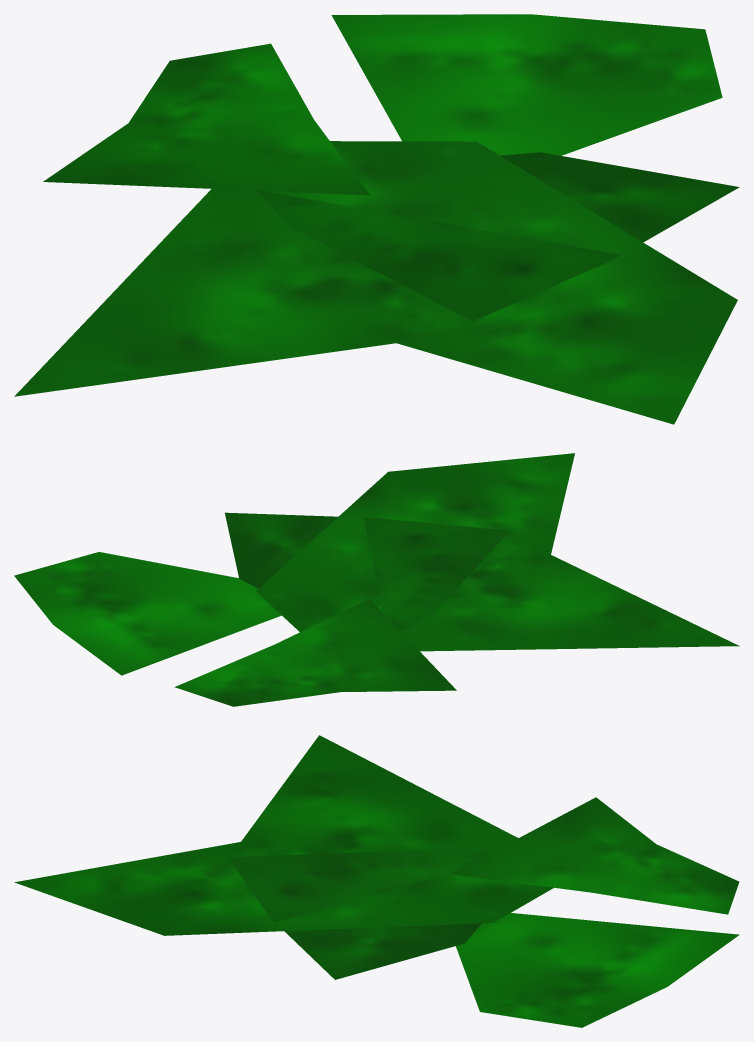
File: Thatching Grass_LOD1_Var18_uddmcgbia.glb
3 renders of one model, top to bottom at view 1: azimuth 30°, elevation 25°; view 2: azimuth 150°, elevation 25°; view 3: azimuth 270°, elevation 25°, orthographic. The views are drawn at different scales.
Parts seen in each view (by area): view 1: _8d5c_Var18_LOD1; view 2: _8d5c_Var18_LOD1; view 3: _8d5c_Var18_LOD1.
Boxes of the visible parts, x1,y1,x2,y2 form: _8d5c_Var18_LOD1: (14,14,739,424); _8d5c_Var18_LOD1: (14,453,739,706); _8d5c_Var18_LOD1: (14,735,739,1027).
Bounding box in the file's own units: 0.1167 × 0.00335 × 0.116.
Materials: 1 (1 with a texture image).
